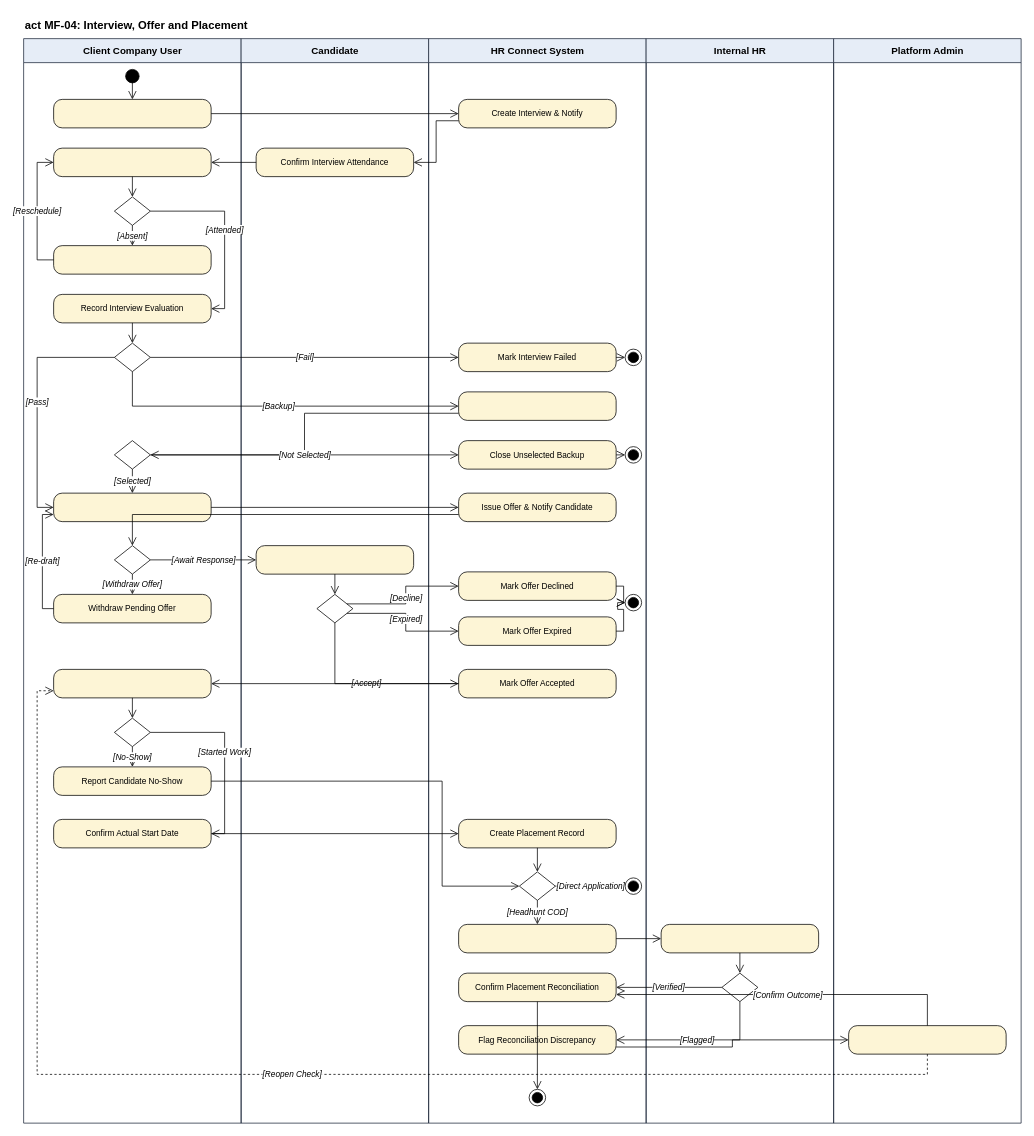
Image size: 1034x1136. Some labels were removed from this diagram. Here are the shapes that lost their labels. From the top down, the centre of each, then its label:
At [132,113]: "Schedule Candidate Interview".
At [132,162]: "Conduct or Reschedule Interview".
At [132,259]: "Record Candidate No-Show".
At [537,405]: "Move Application to Backup".
At [132,507]: "Draft & Send Job Offer".
At [334,559]: "Review & Respond to Offer".
At [132,683]: "Verify Candidate Onboarding".
At [537,938]: "Initiate Start-Work Reconciliation".
At [739,938]: "Verify Onboarding Outcome".
At [927,1039]: "Resolve Flagged Reconciliation".
